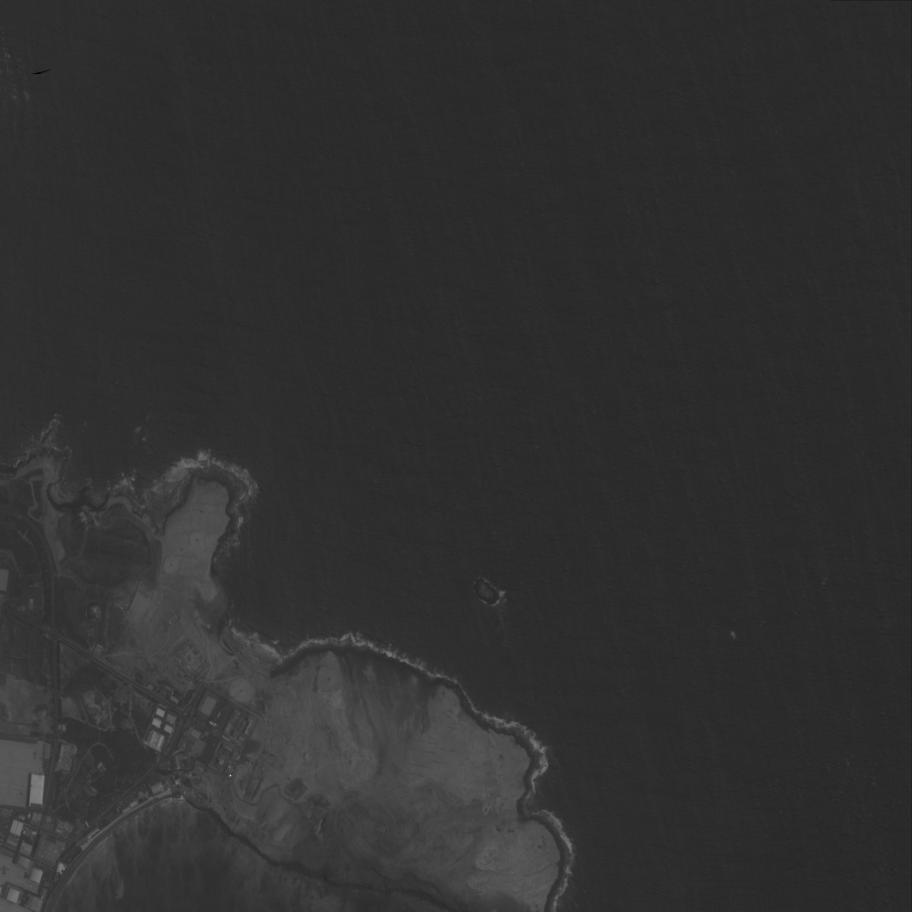plane: (0, 864, 11, 876), (31, 750, 40, 759), (18, 790, 25, 796)
